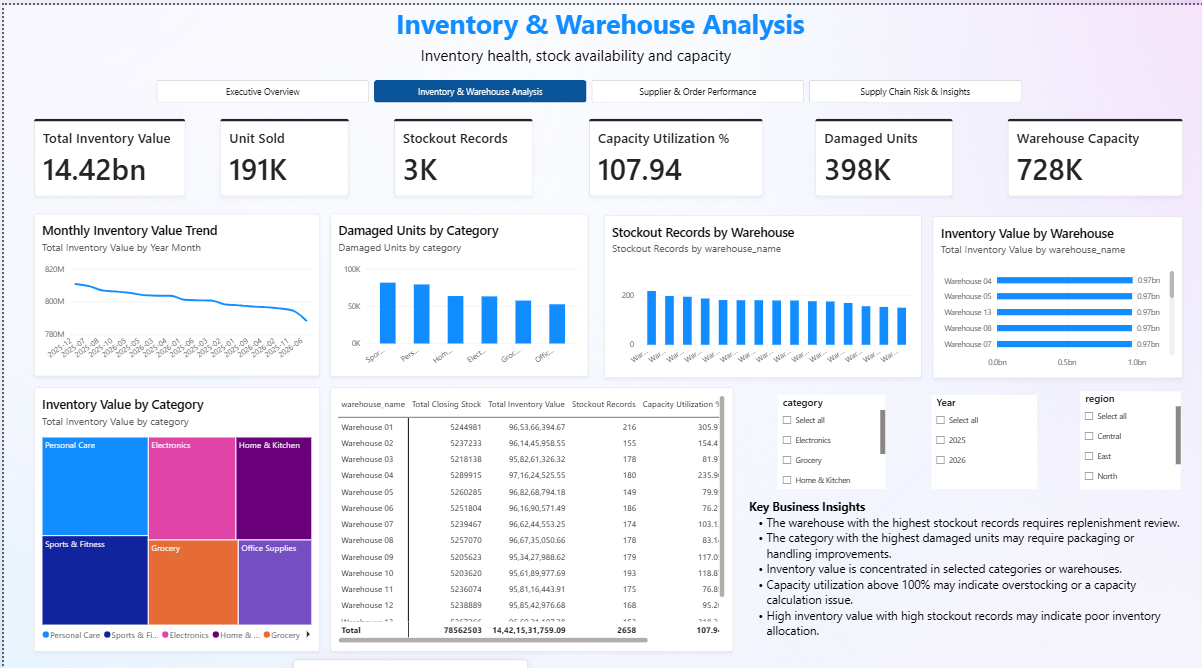

Layout of this report page (visuals, bound fields, positions):
{"tool":"powerbi","page":{"name":"Inventory & Warehouse Analysis","canvas":[1920,1080],"ordinal":1},"visuals":[{"type":"cardVisual","fields":{"Data":["inventory.Total Inventory Value"]},"box":[48,182,242,124],"z":0},{"type":"cardVisual","fields":{"Data":["orders.Unit Sold"]},"box":[346,182,206,124],"z":1000},{"type":"cardVisual","fields":{"Data":["inventory.Damaged Units"]},"box":[1298,182,220,124],"z":2000},{"type":"cardVisual","fields":{"Data":["inventory.Stockout Records"]},"box":[624,182,222,124],"z":3000},{"type":"lineChart","title":"Monthly Inventory Value Trend","fields":{"Category":["DateTable.Year Month"],"Y":["inventory.Total Inventory Value"]},"box":[48.1,333.3,457.5,260],"z":4000},{"type":"clusteredBarChart","title":"Inventory Value by Warehouse","fields":{"Category":["warehouses.warehouse_name"],"Y":["inventory.Total Inventory Value"]},"box":[1485.2,337,400,259.3],"z":5000},{"type":"clusteredColumnChart","title":"Stockout Records by Warehouse","fields":{"Category":["warehouses.warehouse_name"],"Y":["inventory.Stockout Records"]},"box":[959.3,335.2,508.3,260.4],"z":6000},{"type":"treemap","title":"Inventory Value by Category","fields":{"Group":["products.category"],"Values":["inventory.Total Inventory Value"]},"box":[48.1,611.1,457.4,422.2],"z":7000},{"type":"clusteredColumnChart","title":"Damaged Units by Category","fields":{"Category":["products.category"],"Y":["inventory.Damaged Units"]},"box":[522.2,333.3,412.5,260.4],"z":8000},{"type":"cardVisual","fields":{"Data":["warehouses.Warehouse Capacity"]},"box":[1606,182,280,124],"z":9000},{"type":"cardVisual","fields":{"Data":["warehouses.Capacity Utilization %"]},"box":[936,182,278,124],"z":10000},{"type":"slicer","fields":{"Values":["DateTable.Year"]},"box":[1484.4,624.4,168.5,150],"z":11000},{"type":"slicer","fields":{"Values":["products.category"]},"box":[1237.8,624.4,172.2,150],"z":12000},{"type":"slicer","fields":{"Values":["warehouses.region"]},"box":[1722.2,617.8,161.1,157.4],"z":13000},{"type":"textbox","box":[0,0,1920,64],"z":14000},{"type":"pivotTable","fields":{"Rows":["warehouses.warehouse_name"],"Values":["inventory.Total Closing Stock","inventory.Total Inventory Value","inventory.Stockout Records","warehouses.Capacity Utilization %","inventory.Damaged Units"]},"box":[522.2,611.1,644.4,422.2],"z":15000},{"type":"textbox","box":[532,64,766,42],"z":16000},{"type":"textbox","box":[1192.6,790.7,692.6,259.3],"z":17000},{"type":"pageNavigator","box":[244,120,1384,36],"z":17001}]}

Visuals, with their boxes in screenshot pixels (x1, y1, x2, y2), scaled from the page's 1920x1080 canvas onto the 1202x668 screenshot:
cardVisual - inventory.Total Inventory Value: x1=30 y1=113 x2=182 y2=189
cardVisual - orders.Unit Sold: x1=217 y1=113 x2=346 y2=189
cardVisual - inventory.Damaged Units: x1=813 y1=113 x2=950 y2=189
cardVisual - inventory.Stockout Records: x1=391 y1=113 x2=530 y2=189
"Monthly Inventory Value Trend" lineChart: x1=30 y1=206 x2=317 y2=367
"Inventory Value by Warehouse" clusteredBarChart: x1=930 y1=208 x2=1180 y2=369
"Stockout Records by Warehouse" clusteredColumnChart: x1=601 y1=207 x2=919 y2=368
"Inventory Value by Category" treemap: x1=30 y1=378 x2=316 y2=639
"Damaged Units by Category" clusteredColumnChart: x1=327 y1=206 x2=585 y2=367
cardVisual - warehouses.Warehouse Capacity: x1=1005 y1=113 x2=1181 y2=189
cardVisual - warehouses.Capacity Utilization %: x1=586 y1=113 x2=760 y2=189
slicer - DateTable.Year: x1=929 y1=386 x2=1035 y2=479
slicer - products.category: x1=775 y1=386 x2=883 y2=479
slicer - warehouses.region: x1=1078 y1=382 x2=1179 y2=479
textbox: x1=0 y1=0 x2=1201 y2=40
pivotTable - warehouses.warehouse_name x inventory.Total Closing Stock: x1=327 y1=378 x2=730 y2=639
textbox: x1=333 y1=40 x2=813 y2=66
textbox: x1=747 y1=489 x2=1180 y2=649
pageNavigator: x1=153 y1=74 x2=1019 y2=96
